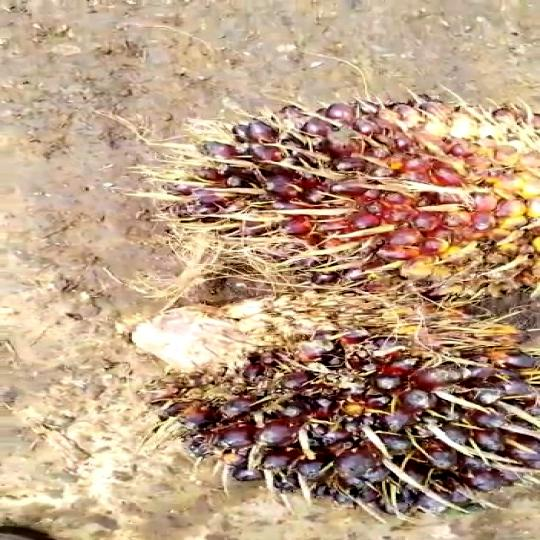kurang masak: (127, 277, 540, 530), (142, 95, 540, 310)
